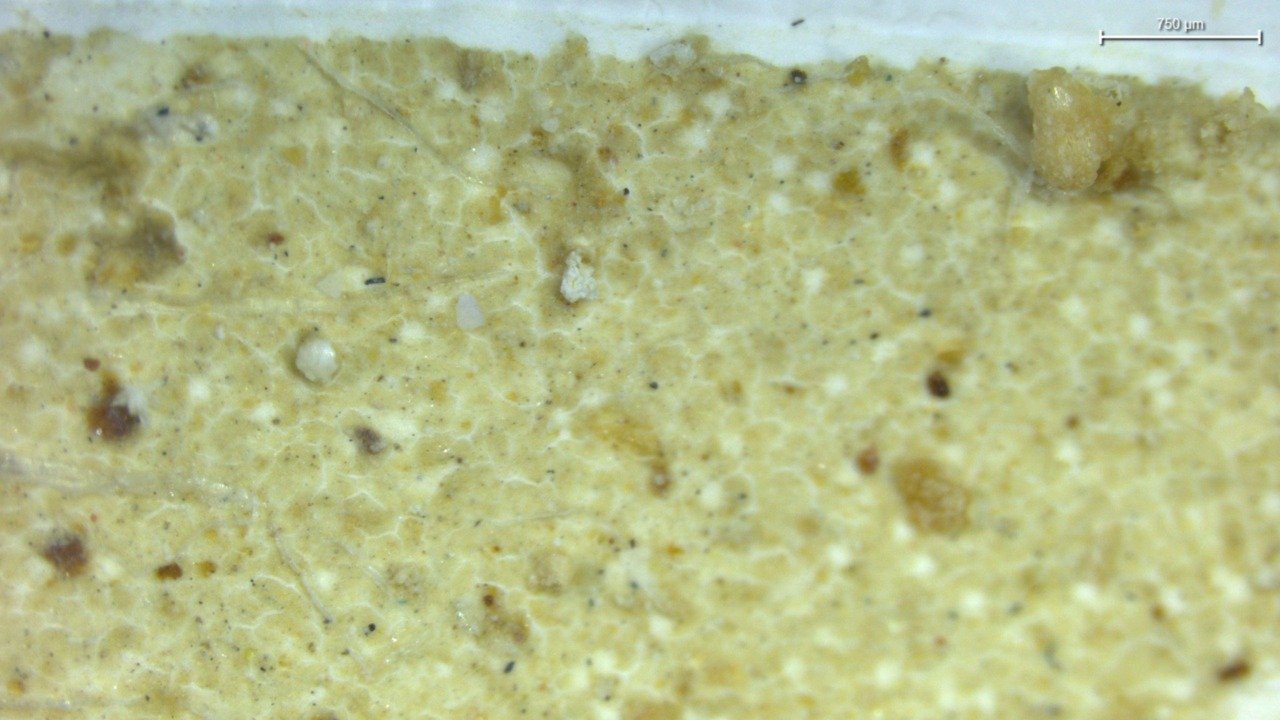microplastic_fragment: (1027, 66, 1150, 193), (560, 253, 598, 305), (295, 340, 341, 381)
